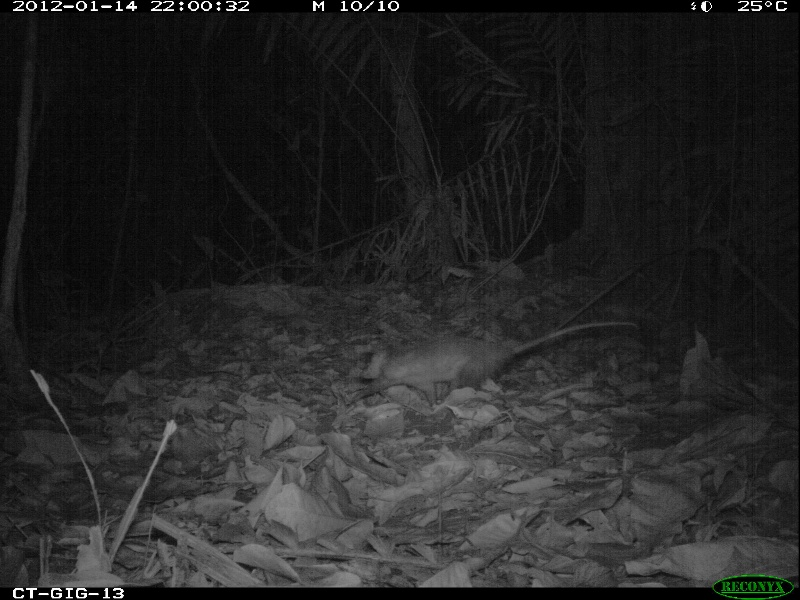opossum: (349, 308, 637, 412)
